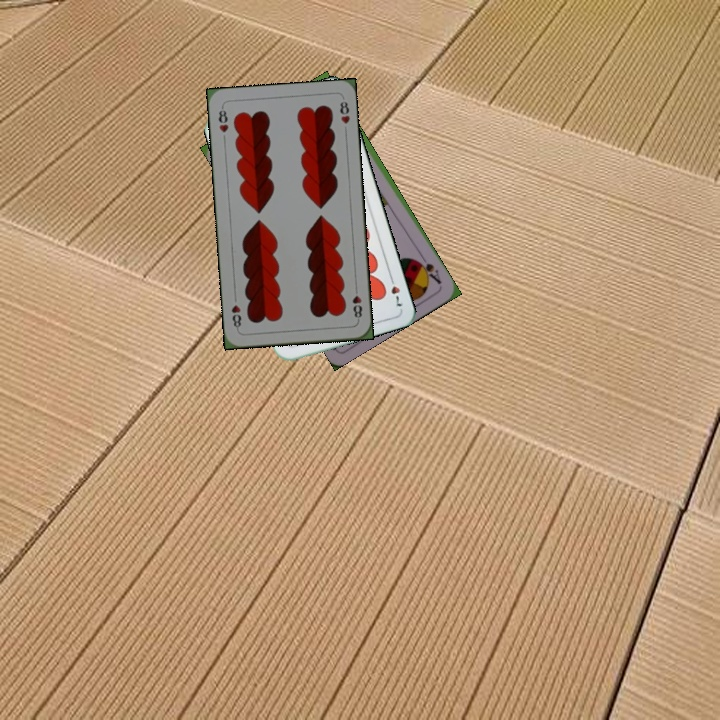H7: (385, 271, 405, 309)
H8: (348, 283, 364, 323), (215, 103, 231, 135)
SA: (413, 255, 444, 287)
